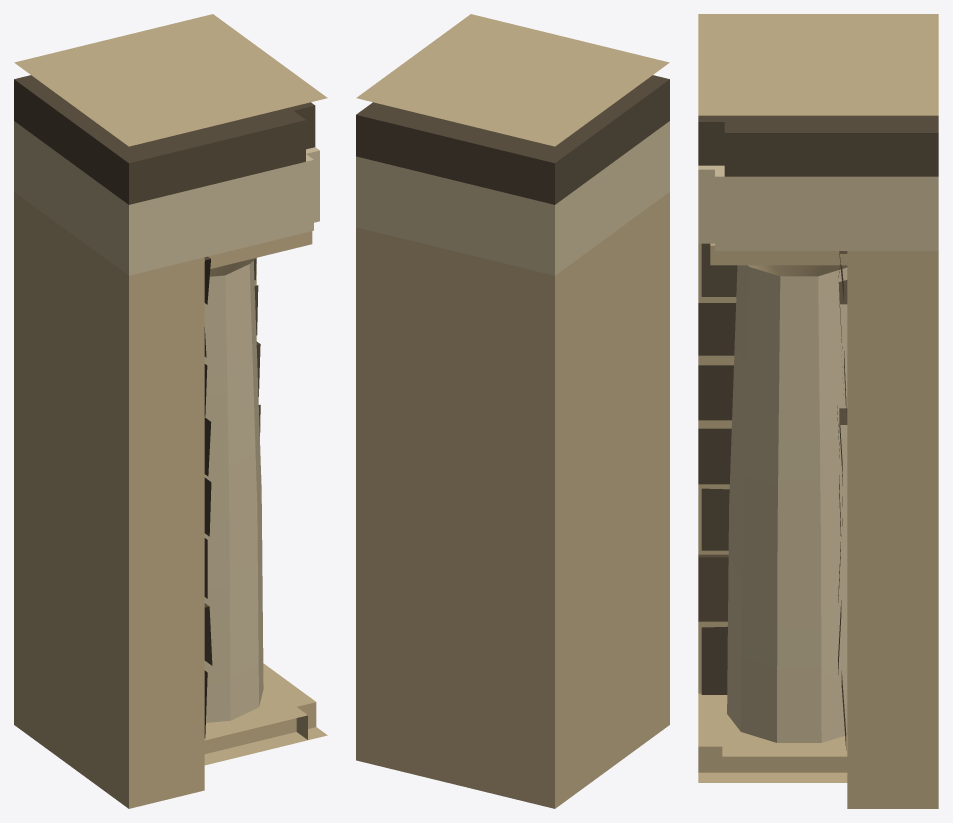
File: temple-inner.glb
The picture shows the model from 3 angles, left to right: view 1: azimuth 30°, elevation 25°; view 2: azimuth 150°, elevation 25°; view 3: azimuth 270°, elevation 25°; orthographic projection. The views are drawn at different scales.
Visible parts, largest first — view 1: temple-inner; view 2: temple-inner; view 3: temple-inner.
Boxes of the visible parts, left/top/right/bottom form: temple-inner: left=14, top=14, right=327, bottom=808; temple-inner: left=356, top=14, right=669, bottom=808; temple-inner: left=698, top=14, right=938, bottom=808.
Size of the model in its own units: 1 by 3.18 by 1.
